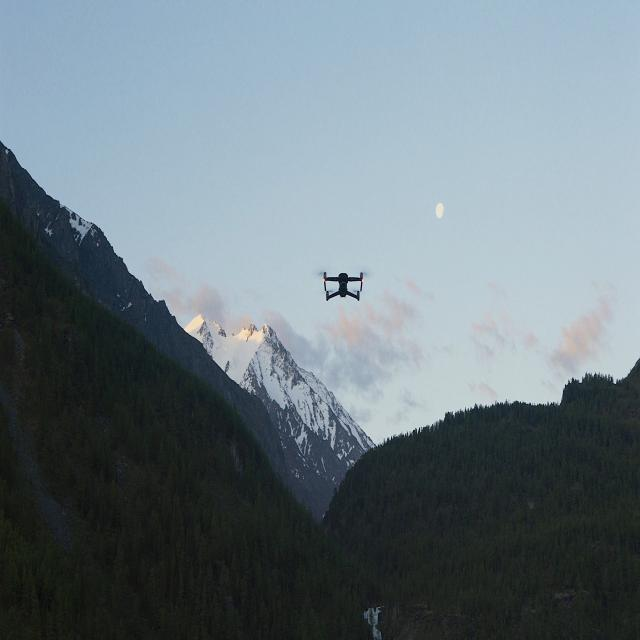Drone: (321, 265, 369, 310)
